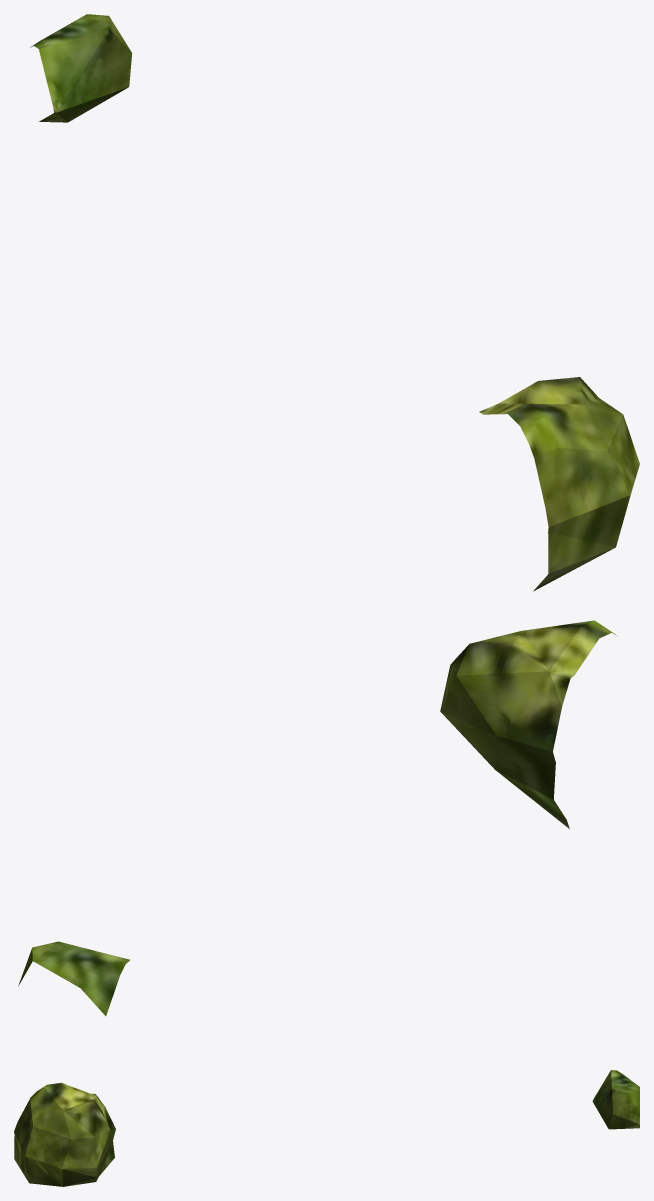
3 renders of one model, top to bottom at view 1: azimuth 30°, elevation 25°; view 2: azimuth 150°, elevation 25°; view 3: azimuth 270°, elevation 25°, orthographic. The views are drawn at different scales.
Bounding box in the file's own units: 0.1197 × 0.1736 × 0.8366.
Materials: 1 (1 with a texture image).
